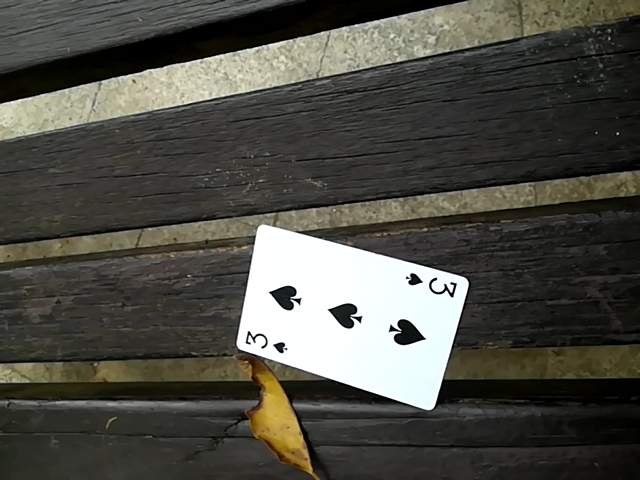ht 3: (240, 217, 471, 414)
